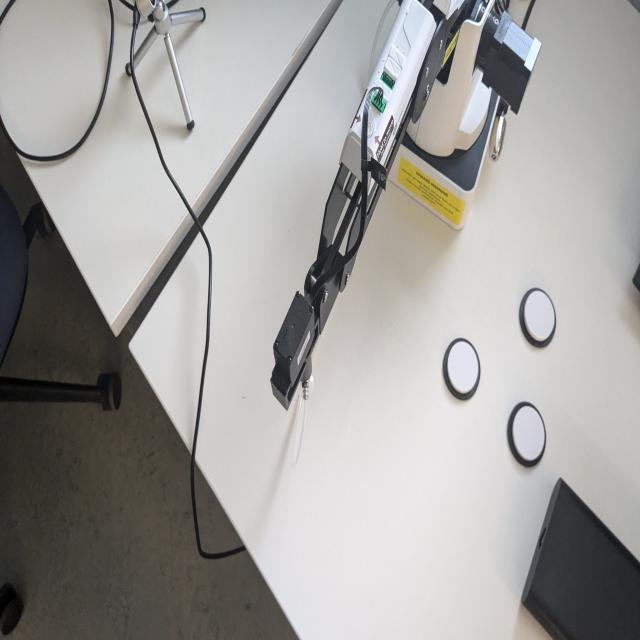Robot-end-effector-HF8z: (268, 287, 320, 422)
